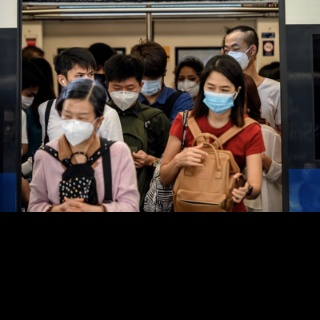with_mask: (58, 106, 94, 150), (203, 80, 235, 115), (109, 82, 140, 114), (222, 40, 250, 70), (176, 72, 201, 98), (140, 76, 162, 96), (21, 90, 36, 111)
